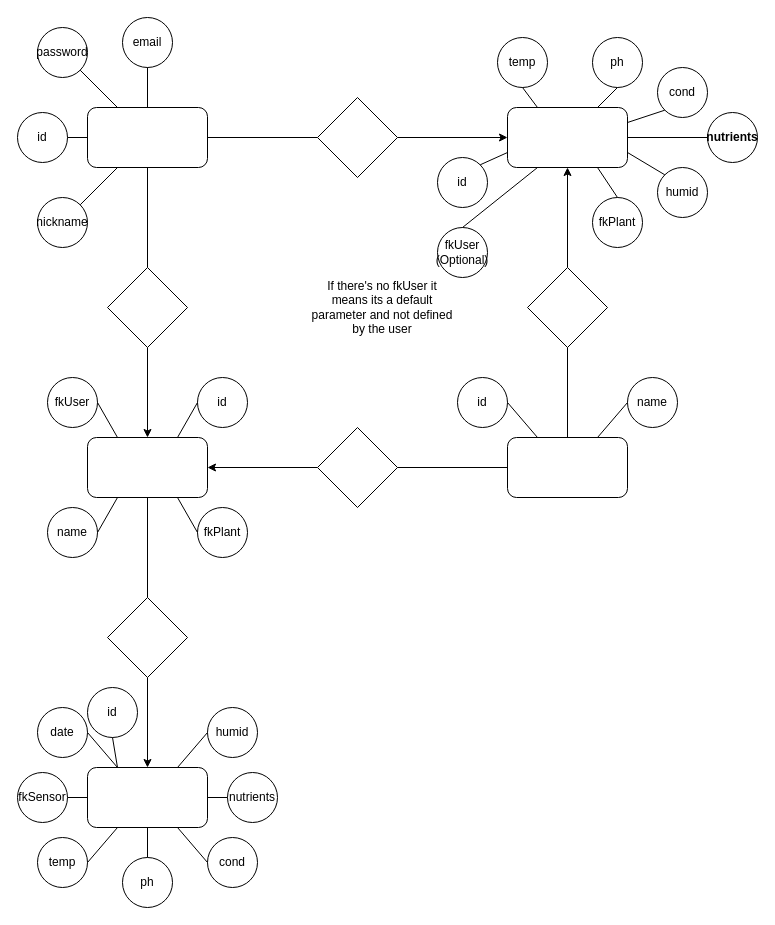
This 775x925 diagram has some shape labels left out. The shapes that lost their labels are listed below. From the top down, each one's box as (x1, y1, x2, y2) in pixels, then its label:
(86, 106, 208, 168): User
(506, 106, 628, 168): Parameter
(86, 436, 208, 498): Sensor
(506, 436, 628, 498): Plant
(86, 766, 208, 828): Lecture
